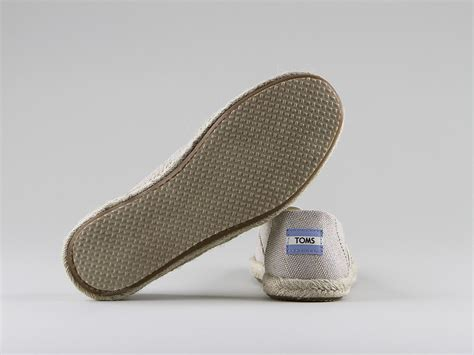nylon: (263, 206, 353, 278)
